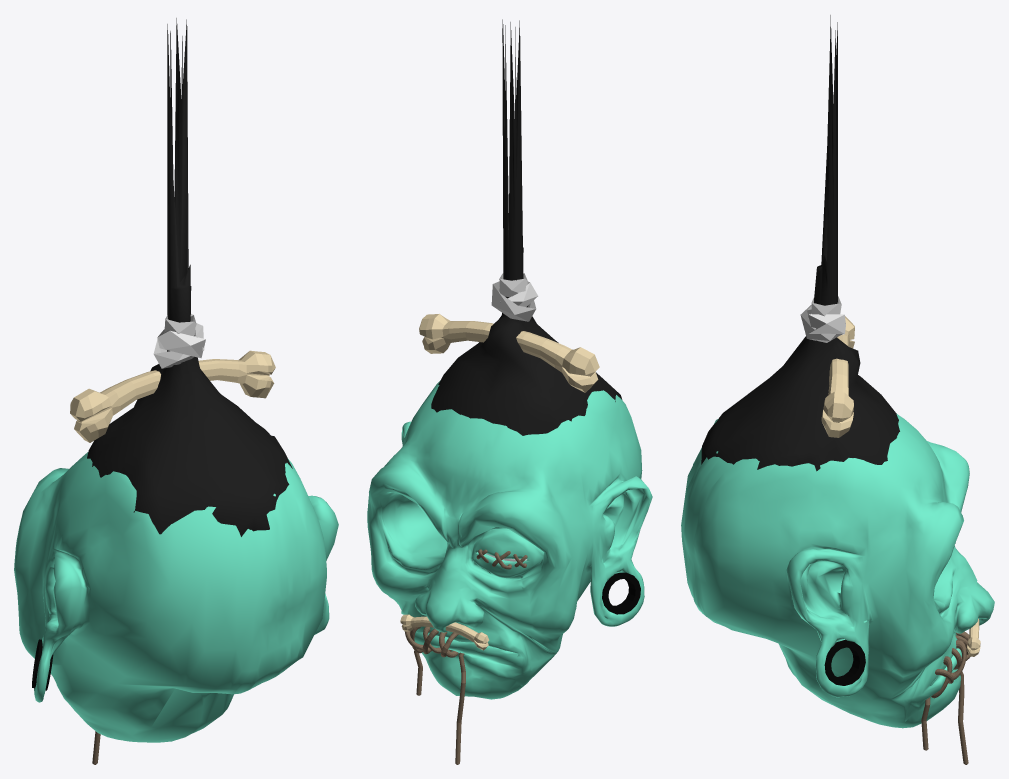
The model's file is _shrunkenHead.glb.
The picture shows the model from 3 angles, left to right: view 1: azimuth 30°, elevation 25°; view 2: azimuth 150°, elevation 25°; view 3: azimuth 270°, elevation 25°; orthographic projection. The views are drawn at different scales.
Parts seen in each view (by area): view 1: head, hair, boneNose.001, Torus.002, Torus.001; view 2: head, hair, boneNose.001, stretcher1, boneNose, Torus.001, Cylinder.001; view 3: head, hair, boneNose.001, stretcher2, Torus.001.
Boxes of the visible parts, x1=… form: head: x1=14, y1=452, x2=338, y2=742; hair: x1=87, y1=18, x2=292, y2=536; boneNose.001: x1=70, y1=350, x2=275, y2=442; Torus.002: x1=157, y1=329, x2=205, y2=358; Torus.001: x1=153, y1=323, x2=204, y2=368; head: x1=367, y1=380, x2=652, y2=699; hair: x1=431, y1=19, x2=622, y2=435; boneNose.001: x1=419, y1=314, x2=599, y2=392; stretcher1: x1=602, y1=572, x2=640, y2=614; boneNose: x1=400, y1=614, x2=489, y2=650; Torus.001: x1=491, y1=281, x2=536, y2=321; Cylinder.001: x1=455, y1=652, x2=465, y2=764; head: x1=681, y1=414, x2=994, y2=728; hair: x1=701, y1=15, x2=899, y2=471; boneNose.001: x1=821, y1=316, x2=854, y2=437; stretcher2: x1=824, y1=639, x2=865, y2=685; Torus.001: x1=808, y1=314, x2=845, y2=334.
Size of the model in its own units: 2.41 by 6.3 by 2.38.
